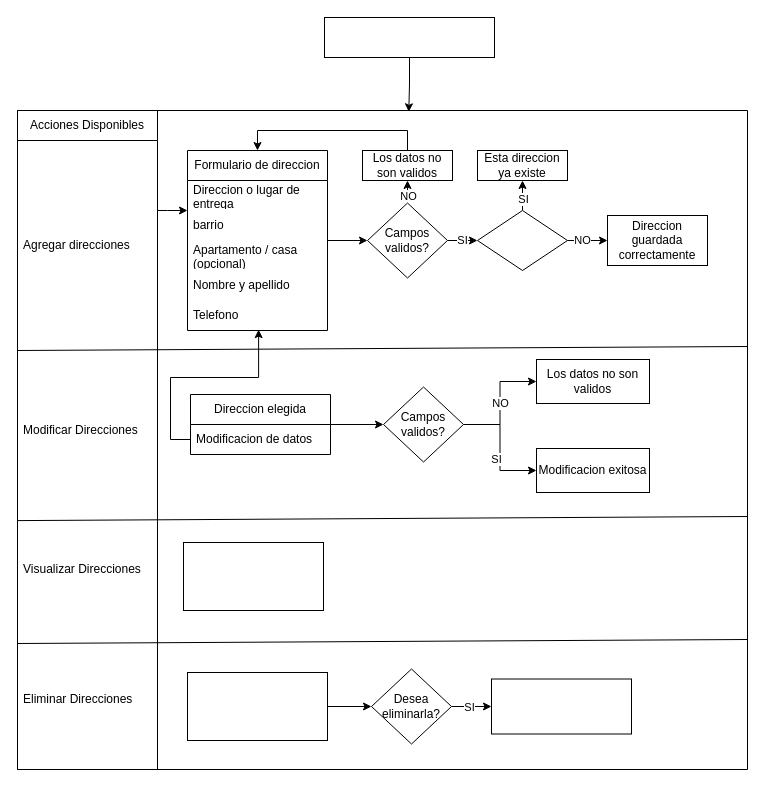
The diagram is 766 pixels wide and 787 high, and some of its shapes have lost their labels. The centre of each missing label's shape, as x and y in pixels:
Direccion eliminada: point 561,706
Elegir direccion: point 257,706
Gestion de Direcciones: point 409,37
Listar todas las direcciones: point 253,576
Ya existe esta direccion?: point 522,240
